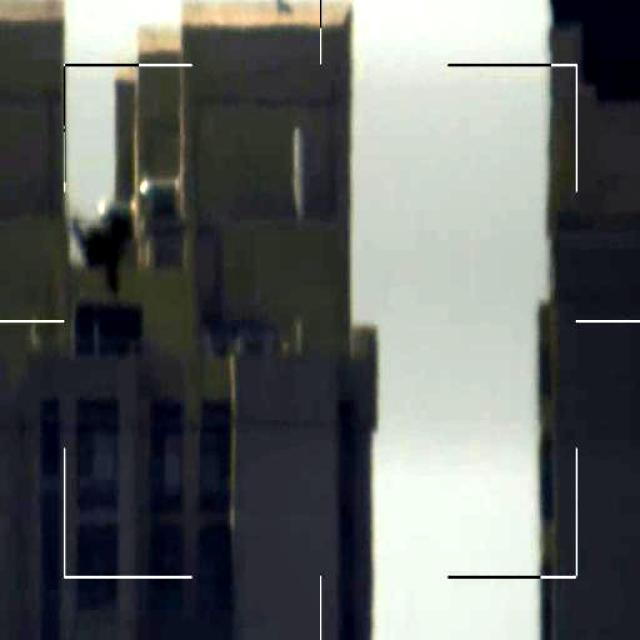bird: (69, 206, 132, 290)
